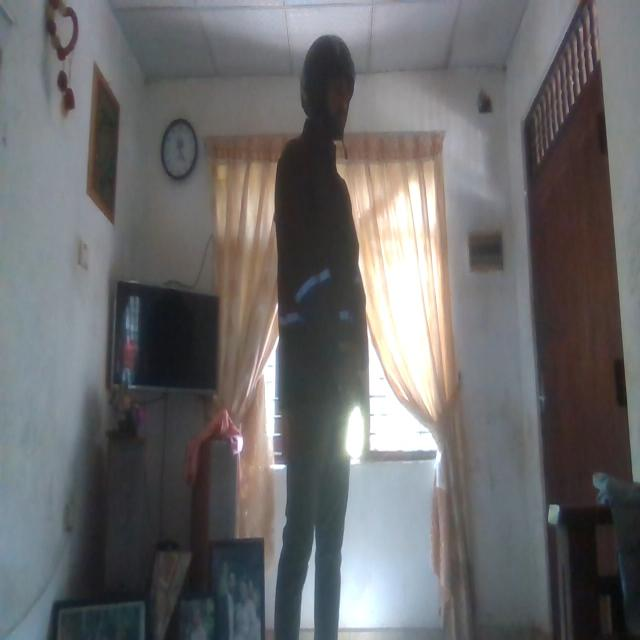Helmet_Wearer: (292, 19, 352, 153)
Jacket_Wearer: (270, 116, 376, 441)
Person: (271, 34, 373, 638)
